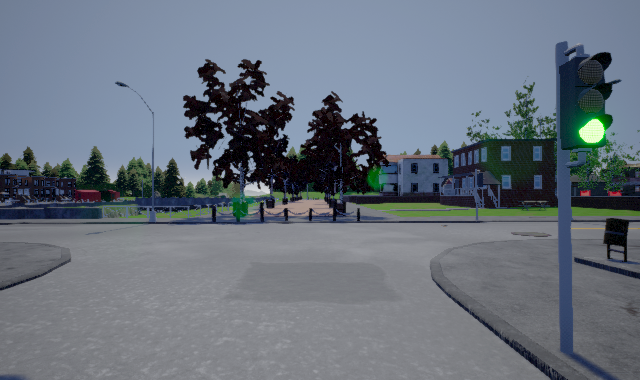traffic_light: (559, 43, 613, 168)
